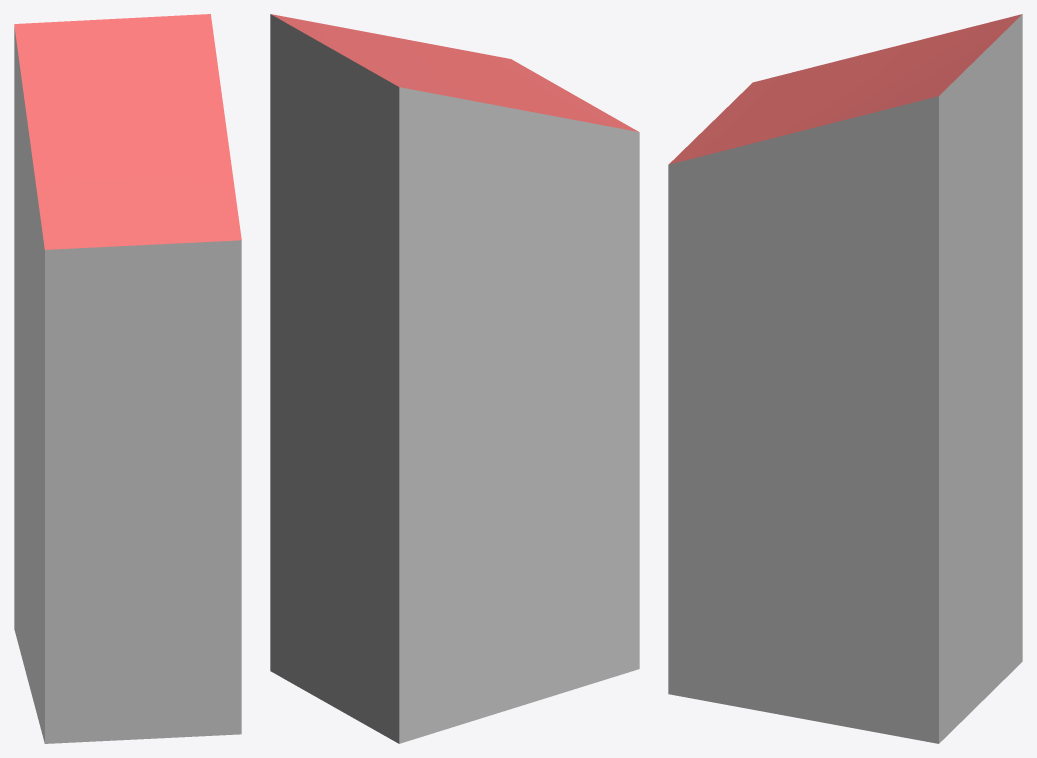
The model's file is DEBY_LOD2_4907200.gltf.
The picture shows the model from 3 angles, left to right: view 1: azimuth 30°, elevation 25°; view 2: azimuth 150°, elevation 25°; view 3: azimuth 270°, elevation 25°; orthographic projection. The views are drawn at different scales.
Visible parts, largest first — view 1: Z_UP; view 2: Z_UP; view 3: Z_UP.
Part boxes in pixels (x1=…): Z_UP: x1=14, y1=14, x2=241, y2=743; Z_UP: x1=270, y1=14, x2=639, y2=743; Z_UP: x1=668, y1=14, x2=1022, y2=743.
Size of the model in its own units: 8.89 by 20.32 by 10.07.
